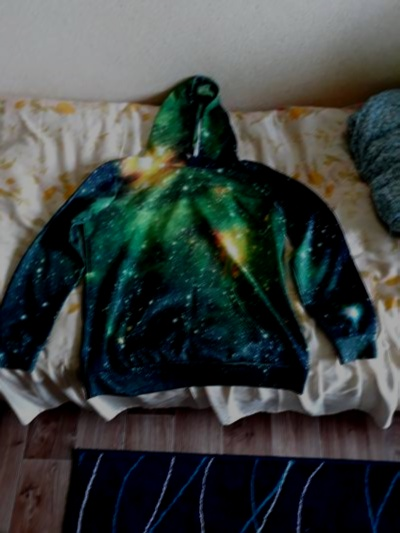Hoodie: (15, 69, 369, 424)
